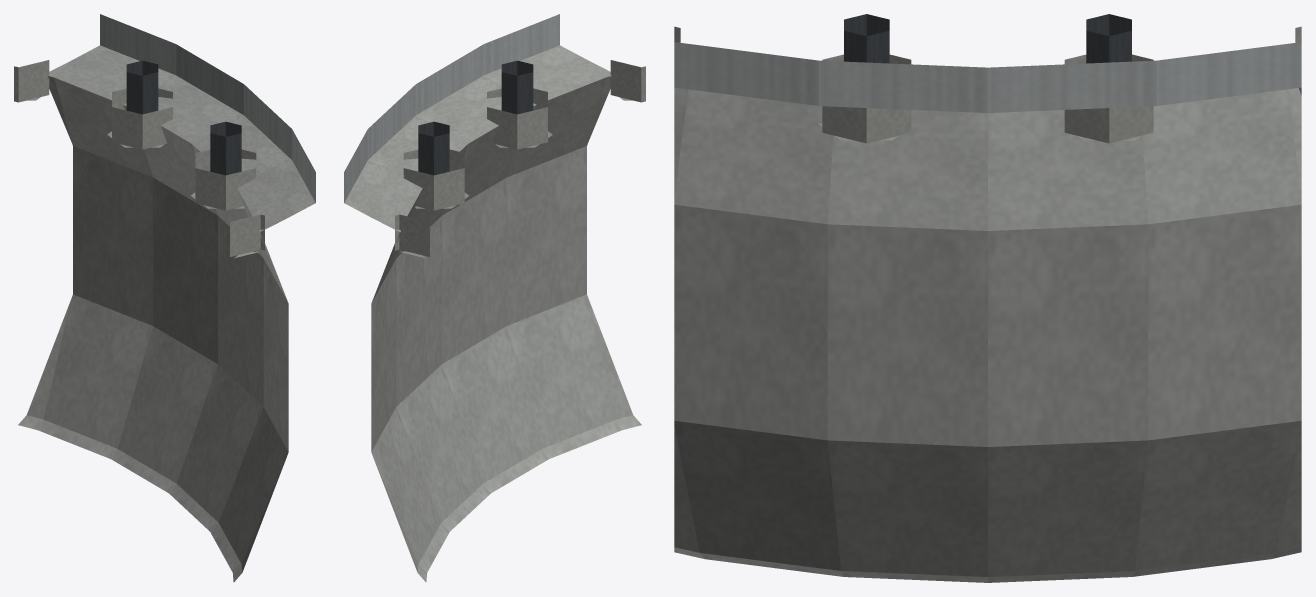
The model's file is cell_63.obj.
3 views of the same model, side by side, from view 1: azimuth 30°, elevation 25°; view 2: azimuth 150°, elevation 25°; view 3: azimuth 270°, elevation 25° (orthographic). The views are drawn at different scales.
Bounding box in the file's own units: 0.3266 × 1 × 1.
